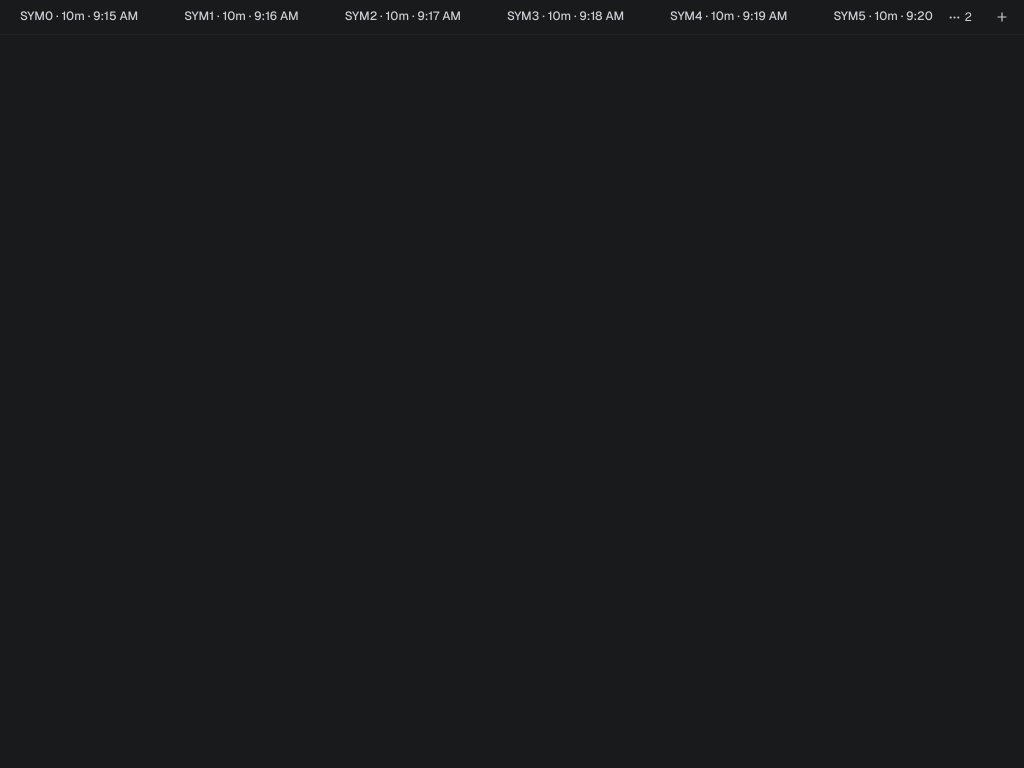
overflow › activates from the overflow menu and closes it
Expected: the tab "SYM0 · 10m · 9:15 AM" is shown, [20,0,138,32]
Click the button named "2 more sessions": {"x": 960, "y": 17} [940,3,980,31]
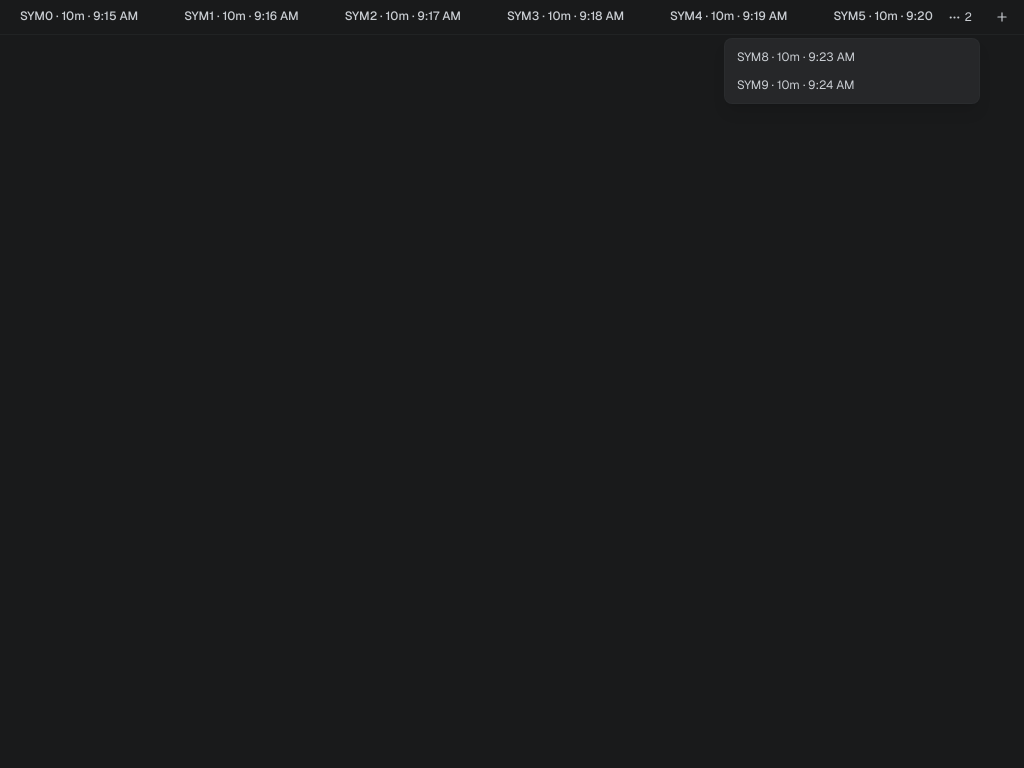
Click the menu item "SYM9 · 10m · 9:24 AM": {"x": 852, "y": 85} [725,71,979,99]
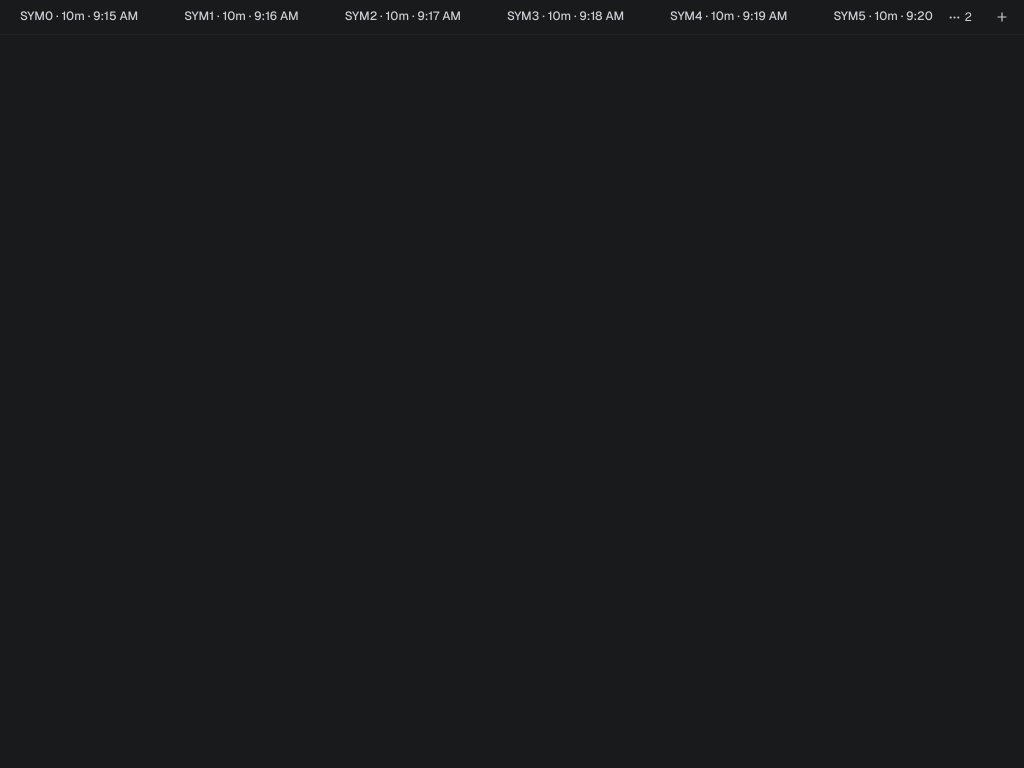
Expected: the menu is gone
